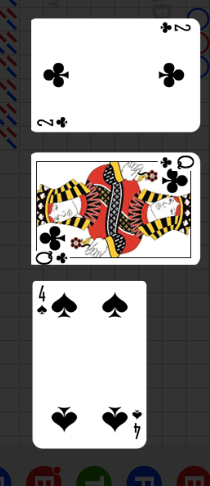2C: (35, 115, 70, 129)
4S: (130, 407, 143, 441), (35, 284, 48, 317)
QC: (31, 219, 78, 263), (152, 152, 198, 196)
